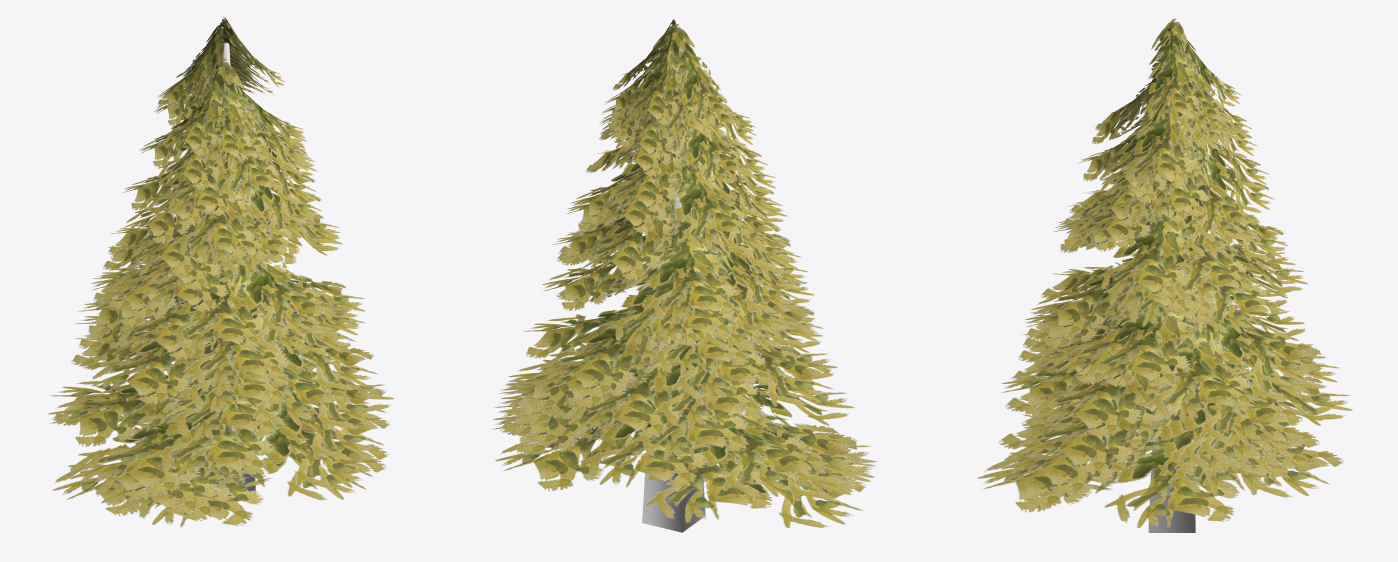
Rendered from SAPIN.glb.
3 views of the same model, side by side, from view 1: azimuth 30°, elevation 25°; view 2: azimuth 150°, elevation 25°; view 3: azimuth 270°, elevation 25° (orthographic). The views are drawn at different scales.
Visible parts, largest first — view 1: Plane.002; view 2: Plane.002, Cube.001; view 3: Plane.002, Cube.001.
Part boxes in pixels (x1=…): Plane.002: x1=48, y1=17, x2=394, y2=527; Plane.002: x1=492, y1=19, x2=877, y2=528; Cube.001: x1=642, y1=151, x2=705, y2=532; Plane.002: x1=977, y1=18, x2=1352, y2=528; Cube.001: x1=1148, y1=146, x2=1195, y2=532.
Bounding box in the file's own units: 6.49 × 7.61 × 6.
Materials: 1 (1 with a texture image).
